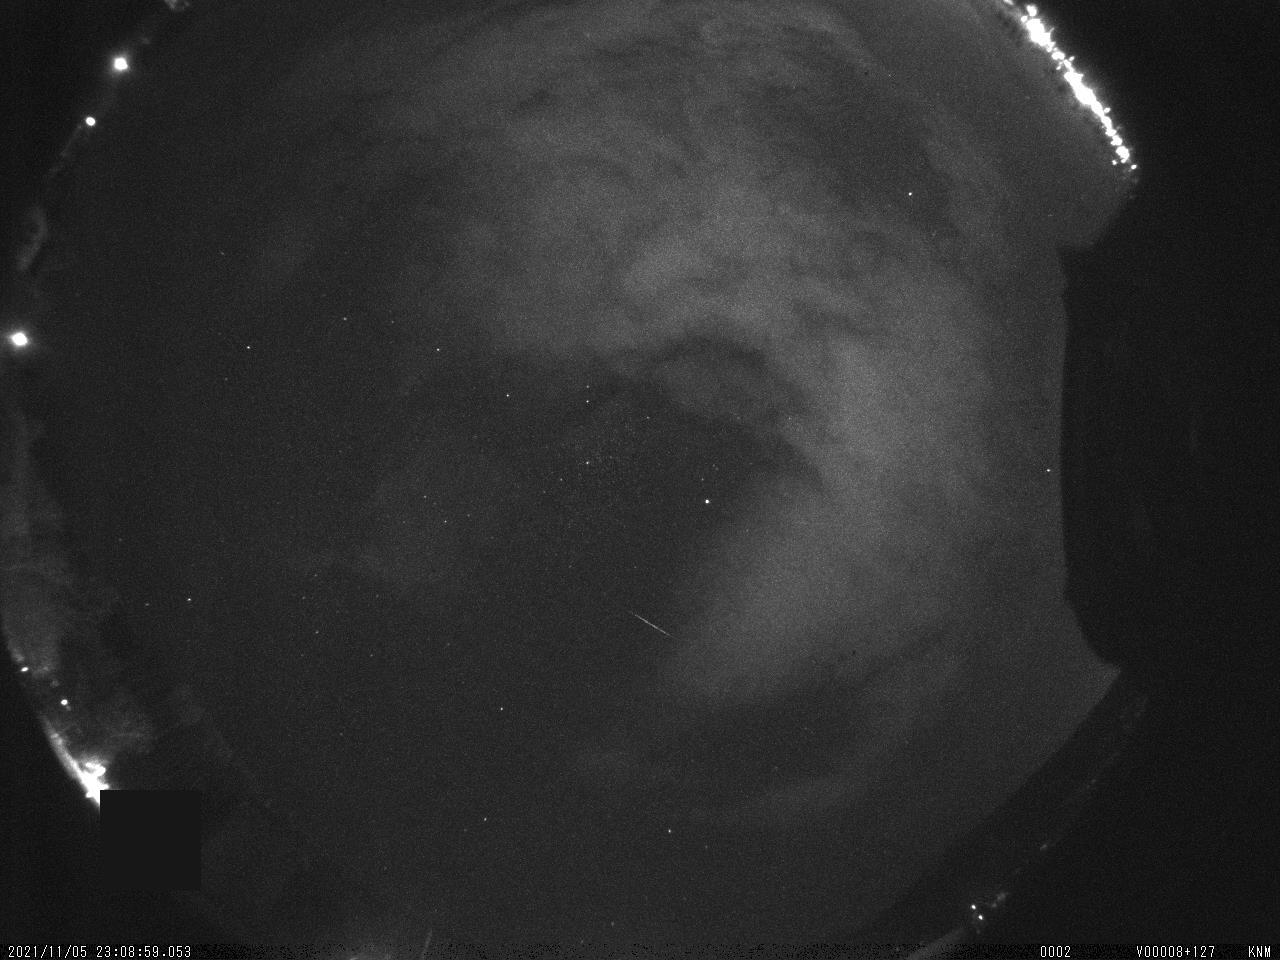meteor: (615, 604, 682, 641)
